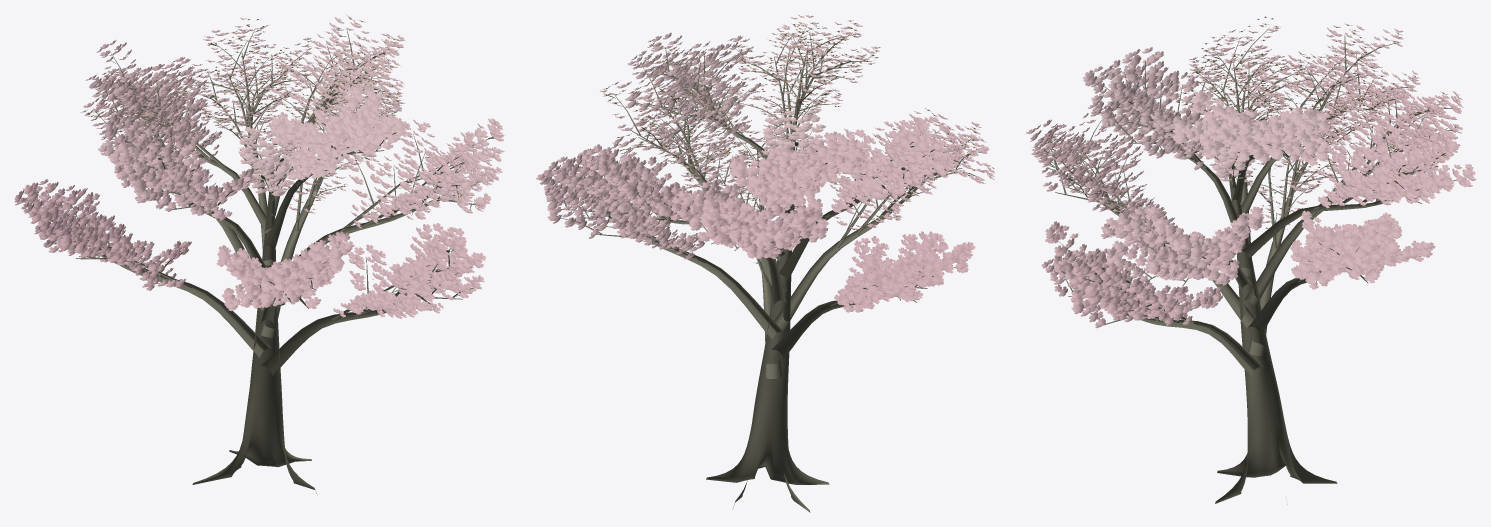
3 views of the same model, side by side, from view 1: azimuth 30°, elevation 25°; view 2: azimuth 150°, elevation 25°; view 3: azimuth 270°, elevation 25° (orthographic). The views are drawn at different scales.
Visible parts, largest first — view 1: leaves, branches; view 2: leaves, branches; view 3: leaves, branches.
Boxes of the visible parts, x1,y1,x2,y2 form: leaves: [14, 14, 504, 318]; branches: [26, 28, 489, 494]; leaves: [536, 14, 994, 312]; branches: [555, 26, 984, 512]; leaves: [1026, 16, 1476, 328]; branches: [1040, 28, 1456, 504].
Bounding box in the file's own units: 8.86 × 8.77 × 8.29.
